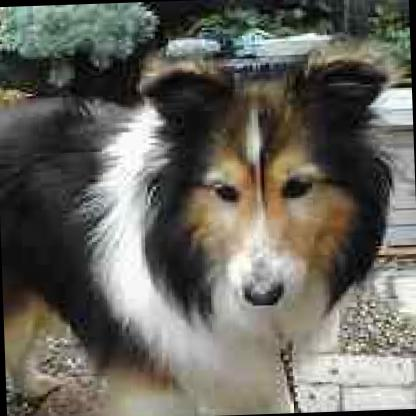Shetland_sheepdog: (0, 23, 405, 416)
